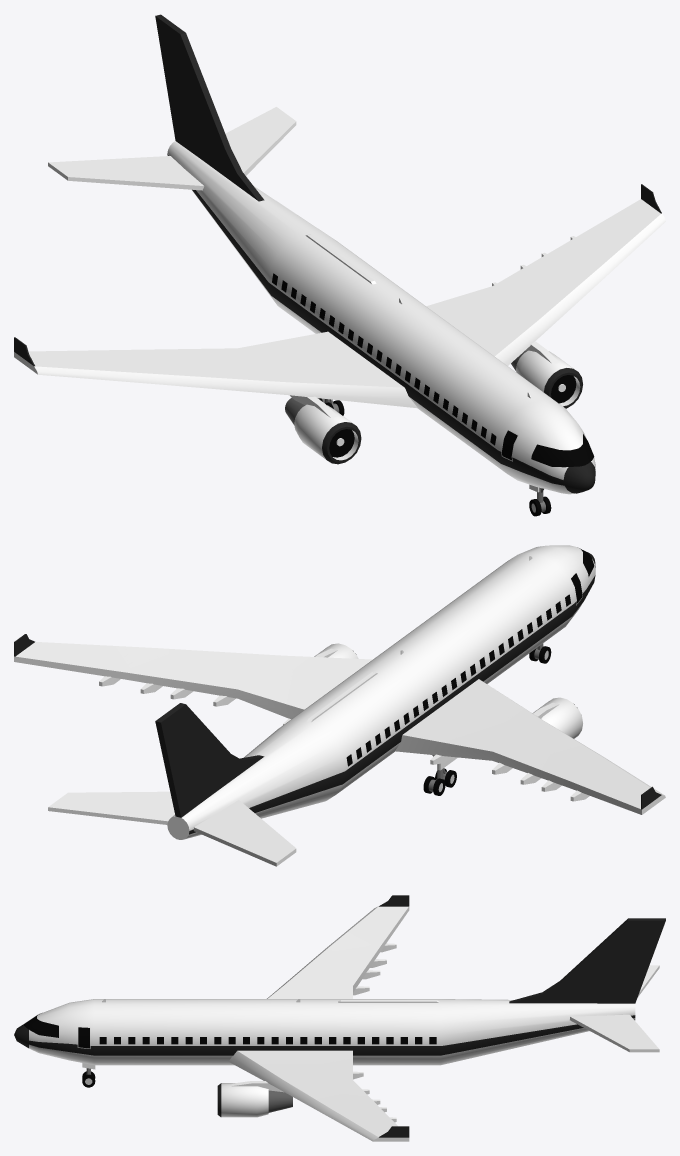
The model's file is Airplane(white).fbx.
3 views of the same model, one above another, from view 1: azimuth 30°, elevation 25°; view 2: azimuth 150°, elevation 25°; view 3: azimuth 270°, elevation 25° (orthographic). The views are drawn at different scales.
Parts seen in each view (by area): view 1: Airplane; view 2: Airplane; view 3: Airplane.
Boxes of the visible parts, x1,y1,x2,y2 form: Airplane: [14, 14, 665, 516]; Airplane: [14, 545, 665, 866]; Airplane: [14, 895, 665, 1141].
Bounding box in the file's own units: 4670 × 1558 × 5560.
Materials: 1 (1 with a texture image).
